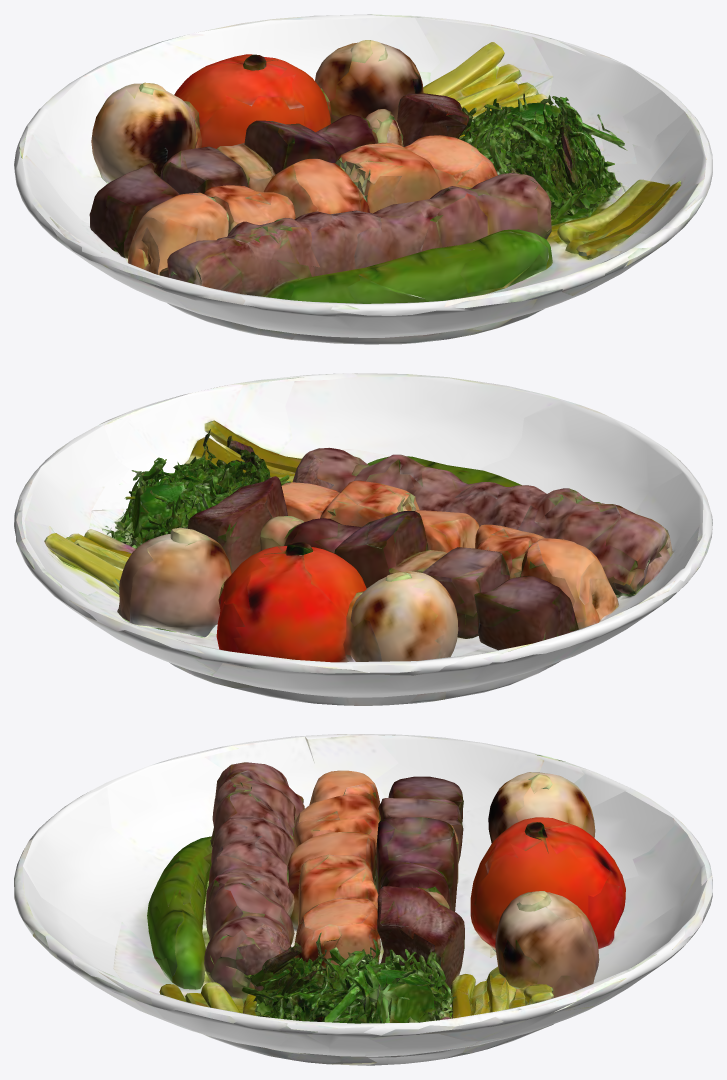
Rendered from mixed-grill.glb.
3 views of the same model, one above another, from view 1: azimuth 30°, elevation 25°; view 2: azimuth 150°, elevation 25°; view 3: azimuth 270°, elevation 25° (orthographic).
Size of the model in its own units: 1.9 by 0.3982 by 1.9.
1 material, 1 textured.
